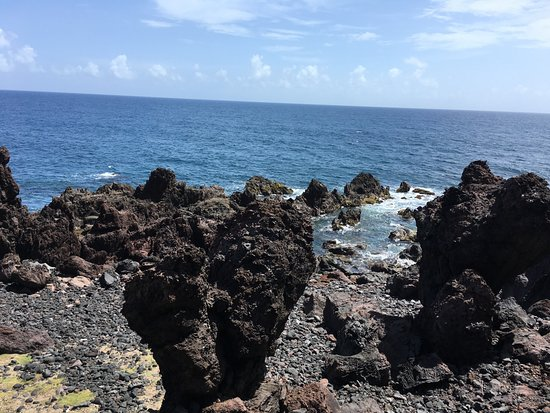volcanic_rock: (120, 205, 296, 413), (428, 198, 543, 383)
